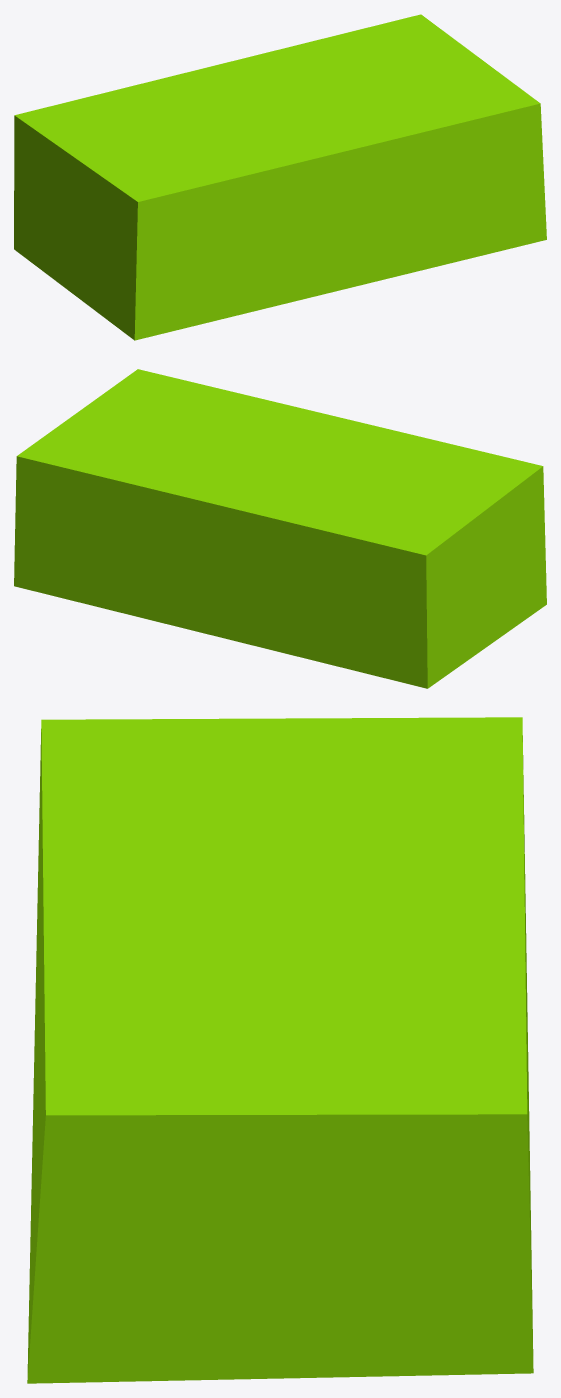
The model's file is Wall_Stone_01_B1_Lod1.fbx.
The picture shows the model from 3 angles, top to bottom: view 1: azimuth 30°, elevation 25°; view 2: azimuth 150°, elevation 25°; view 3: azimuth 270°, elevation 25°; orthographic projection. The views are drawn at different scales.
Visible parts, largest first — view 1: Wall_Stone_01_B1_Lod1; view 2: Wall_Stone_01_B1_Lod1; view 3: Wall_Stone_01_B1_Lod1.
Part boxes in pixels (x1,y1,x2,y2): Wall_Stone_01_B1_Lod1: (14, 14, 546, 340); Wall_Stone_01_B1_Lod1: (14, 369, 546, 688); Wall_Stone_01_B1_Lod1: (27, 717, 533, 1383).
Bounding box in the file's own units: 278 × 89.09 × 148.
